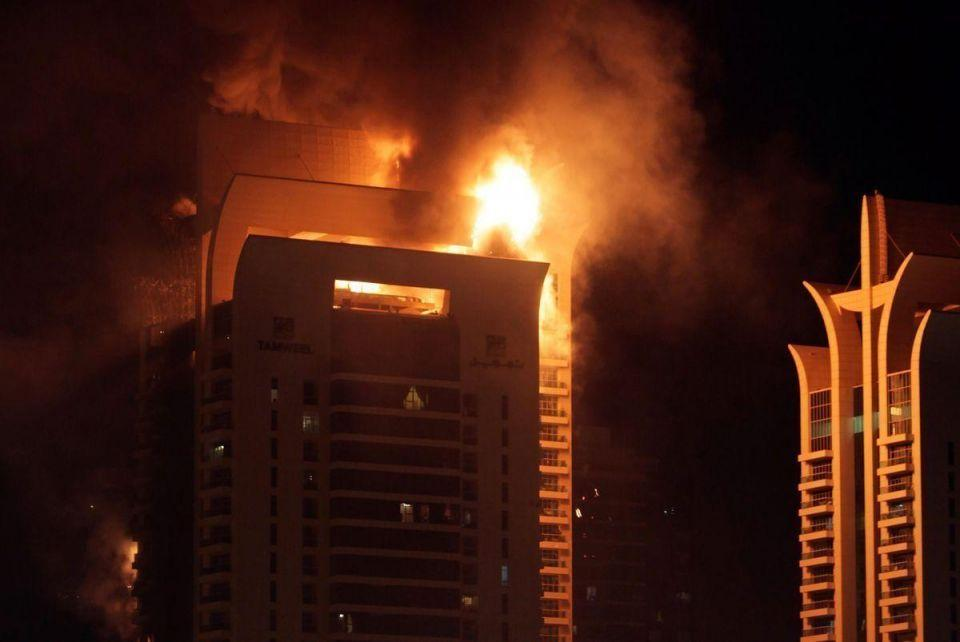Fire: (450, 108, 587, 318)
